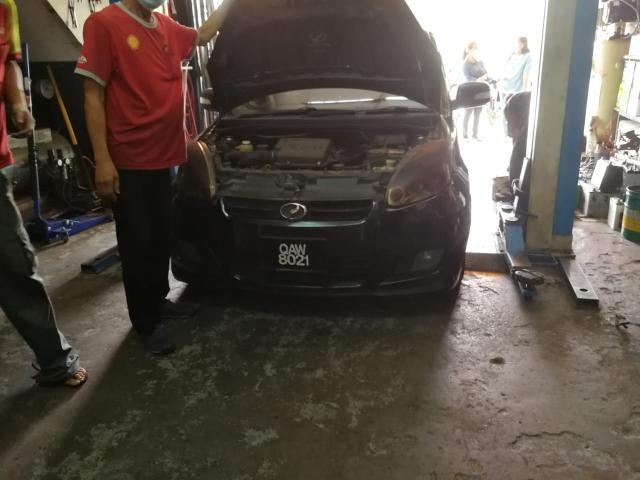License_Plate: (260, 238, 329, 274)
